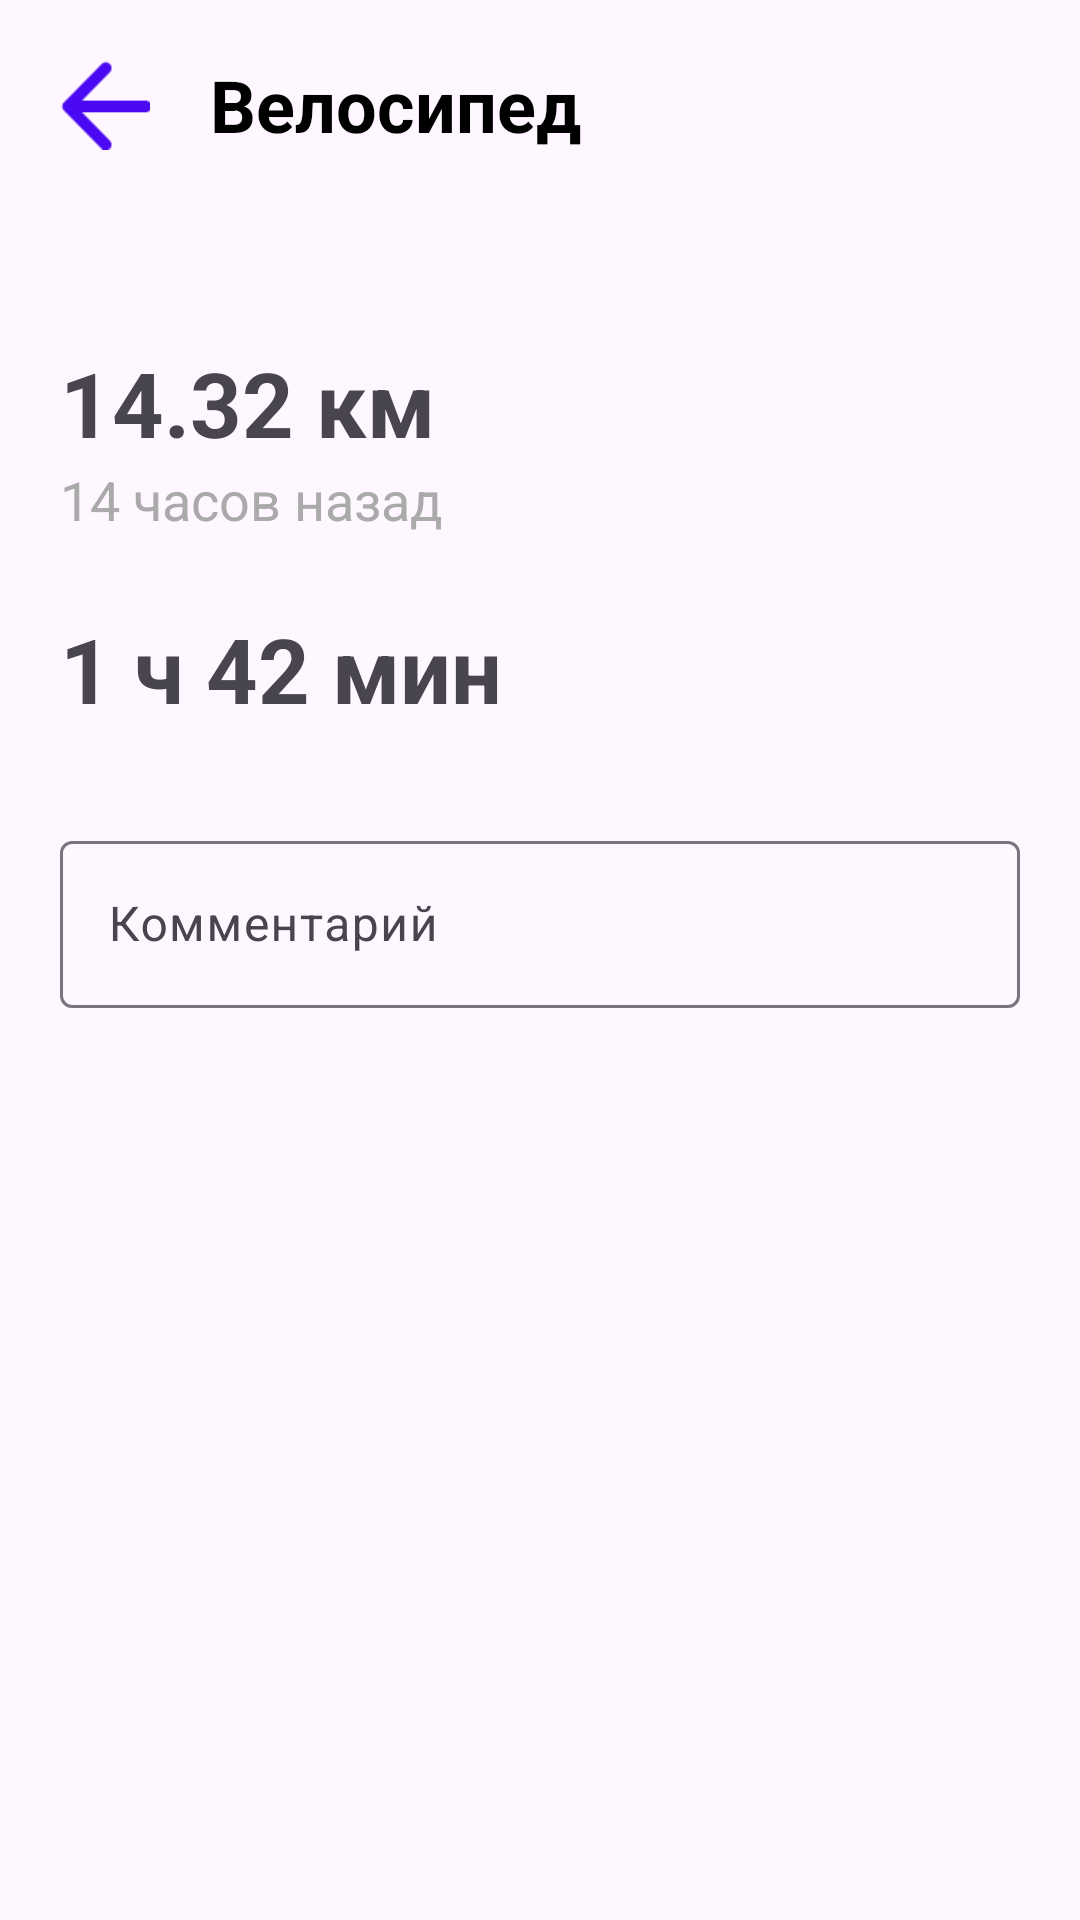

Screen size 1080*1920. Icon name, then its box in pixels as (x1, y1, x2, y2):
backarr: (61, 61, 150, 150)
